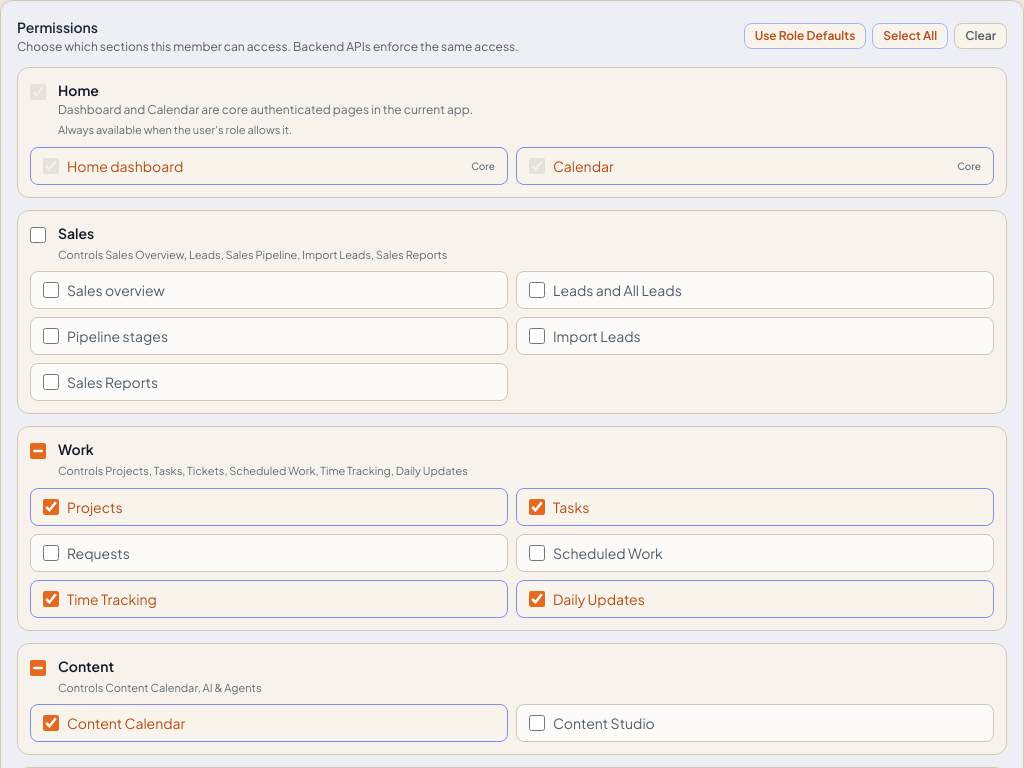
Test: ModulePermissionSelector › Clear unchecks every module
Click the button "Clear": (981, 36) [954,23,1007,49]
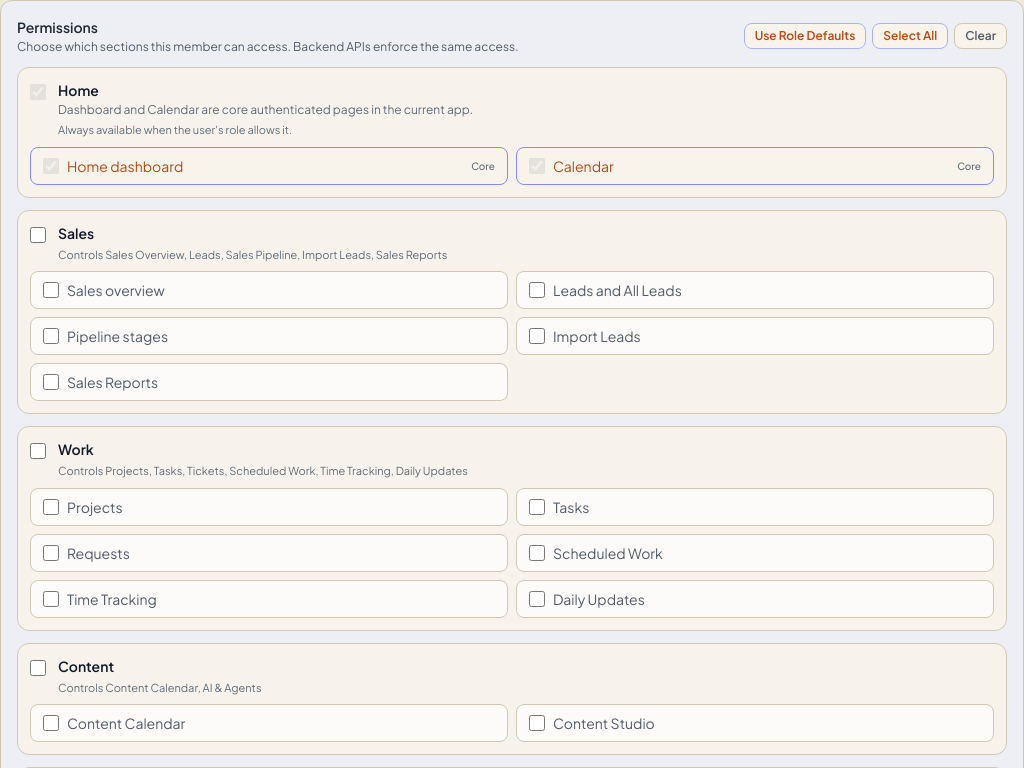
Now the checkbox labelled "Projects" is not checked, box [43,498,59,514]
